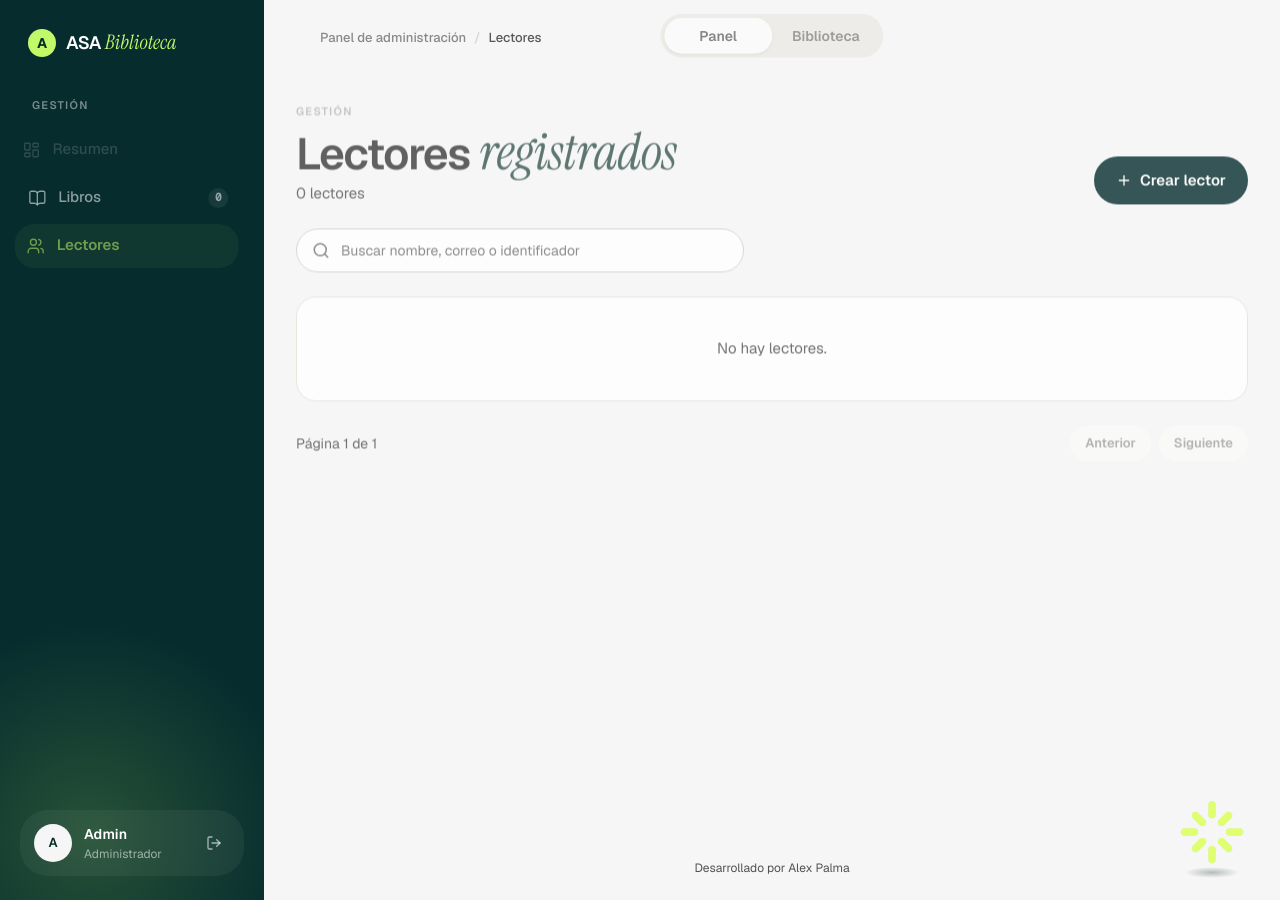
Test case: formularios de admin: errores generales › lector: un 403 se muestra como alerta arriba del formulario
Click the button "Crear lector" at point(1171, 180), box 1094,156 -> 1248,204
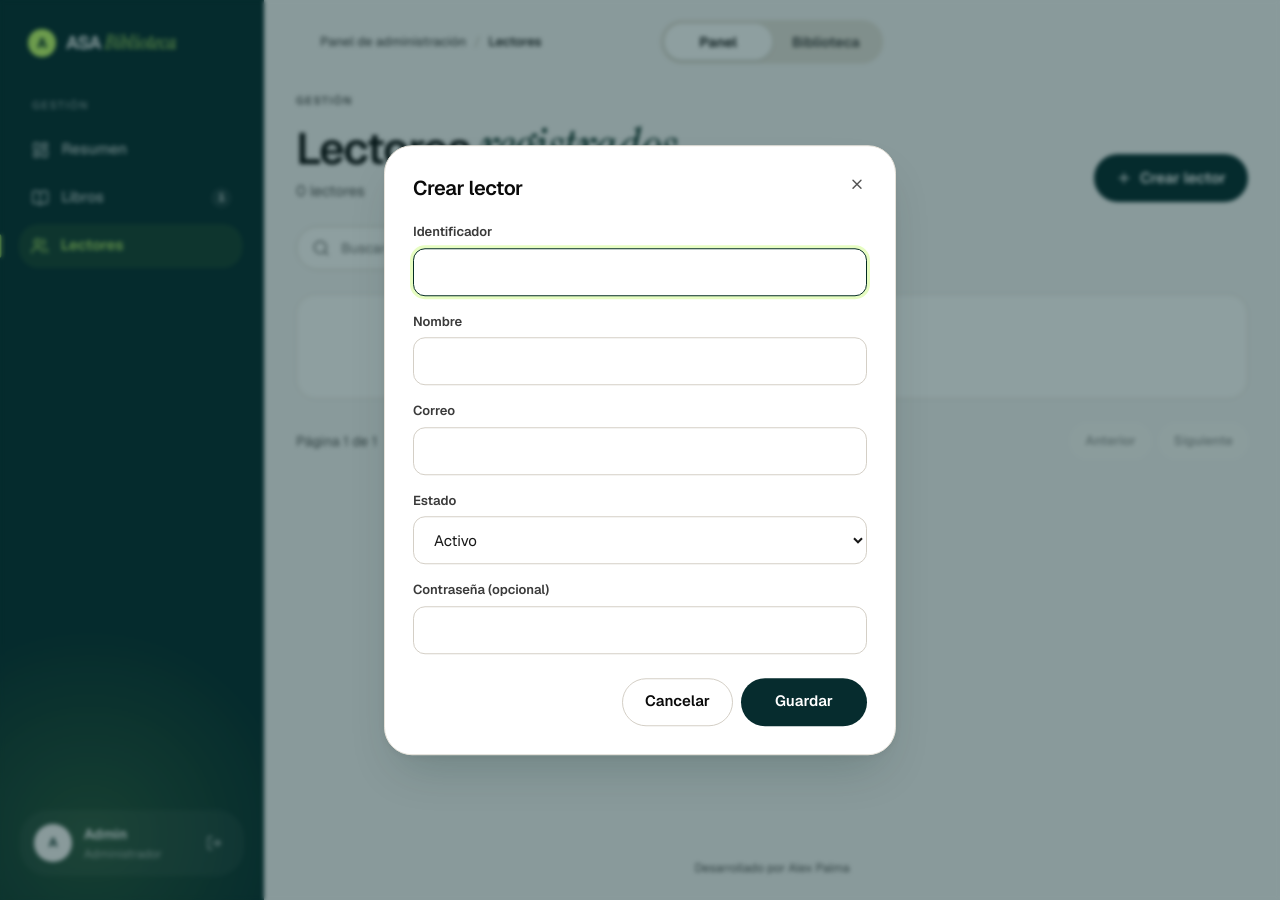
Type "L-900" into the field labelled "Identificador" at point(640, 272), box 413,248 -> 867,296
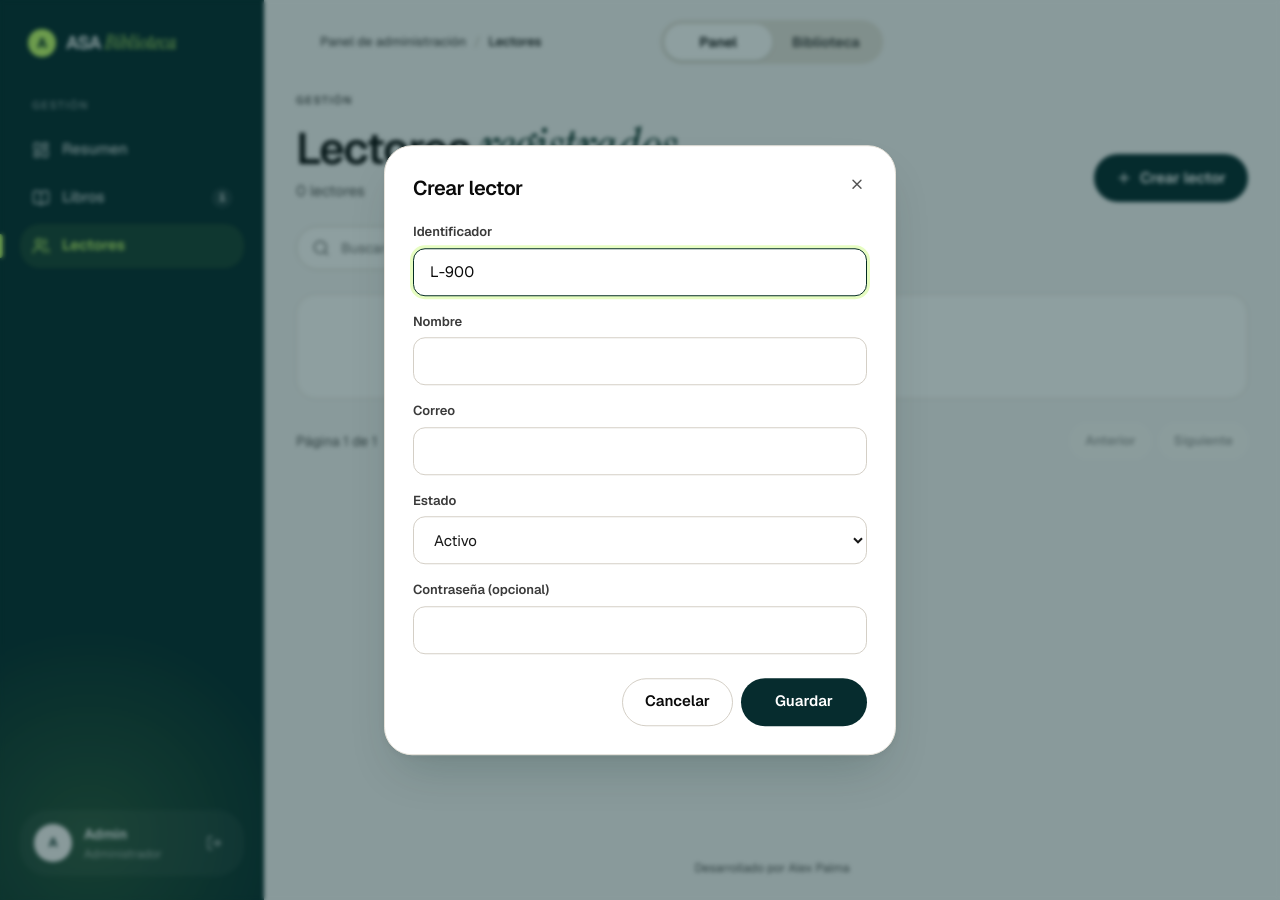
Type "Marta Ruiz" into the field labelled "Nombre" at point(640, 361), box 413,337 -> 867,385
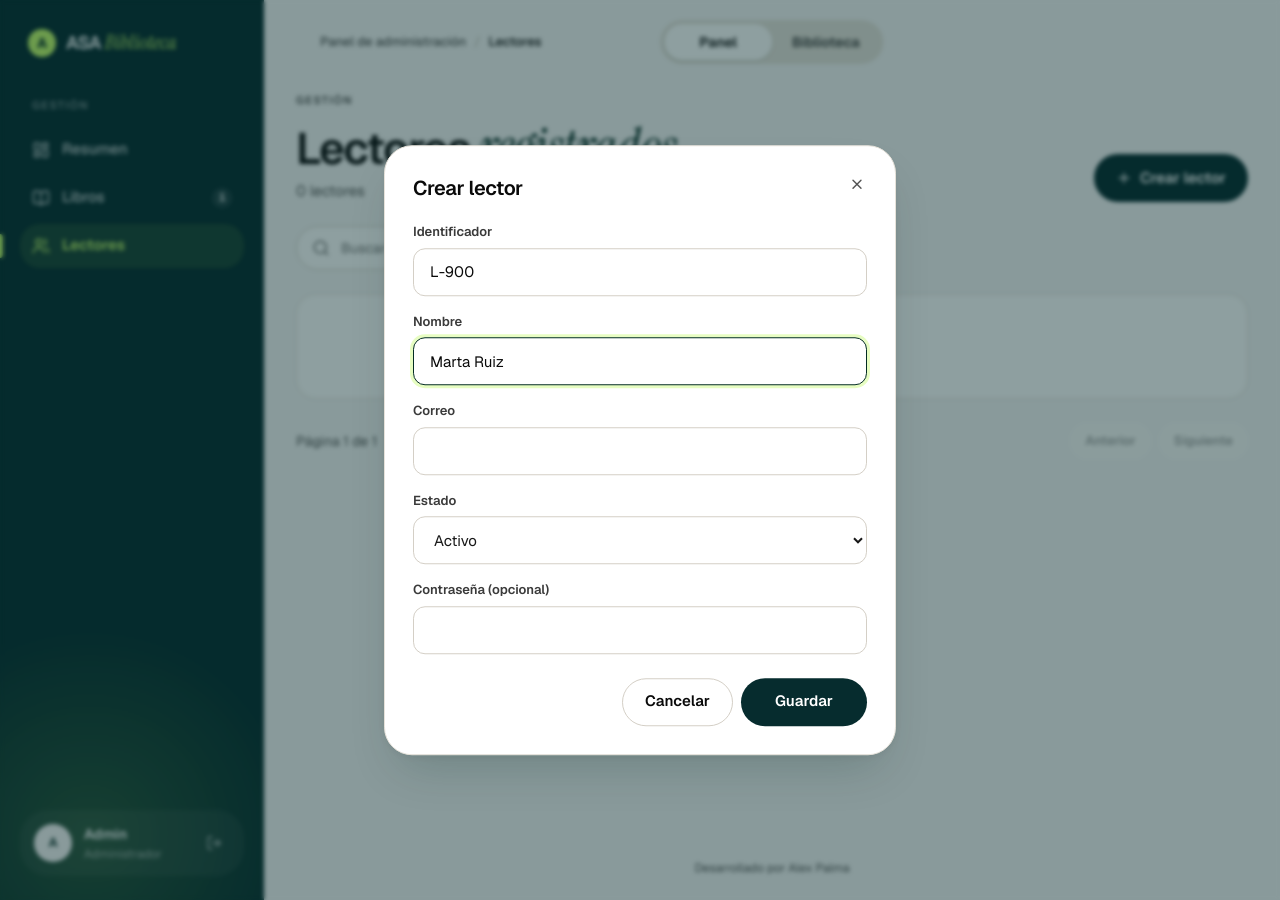
Type "marta@demo.local" into the field labelled "Correo" at point(640, 451), box 413,427 -> 867,475
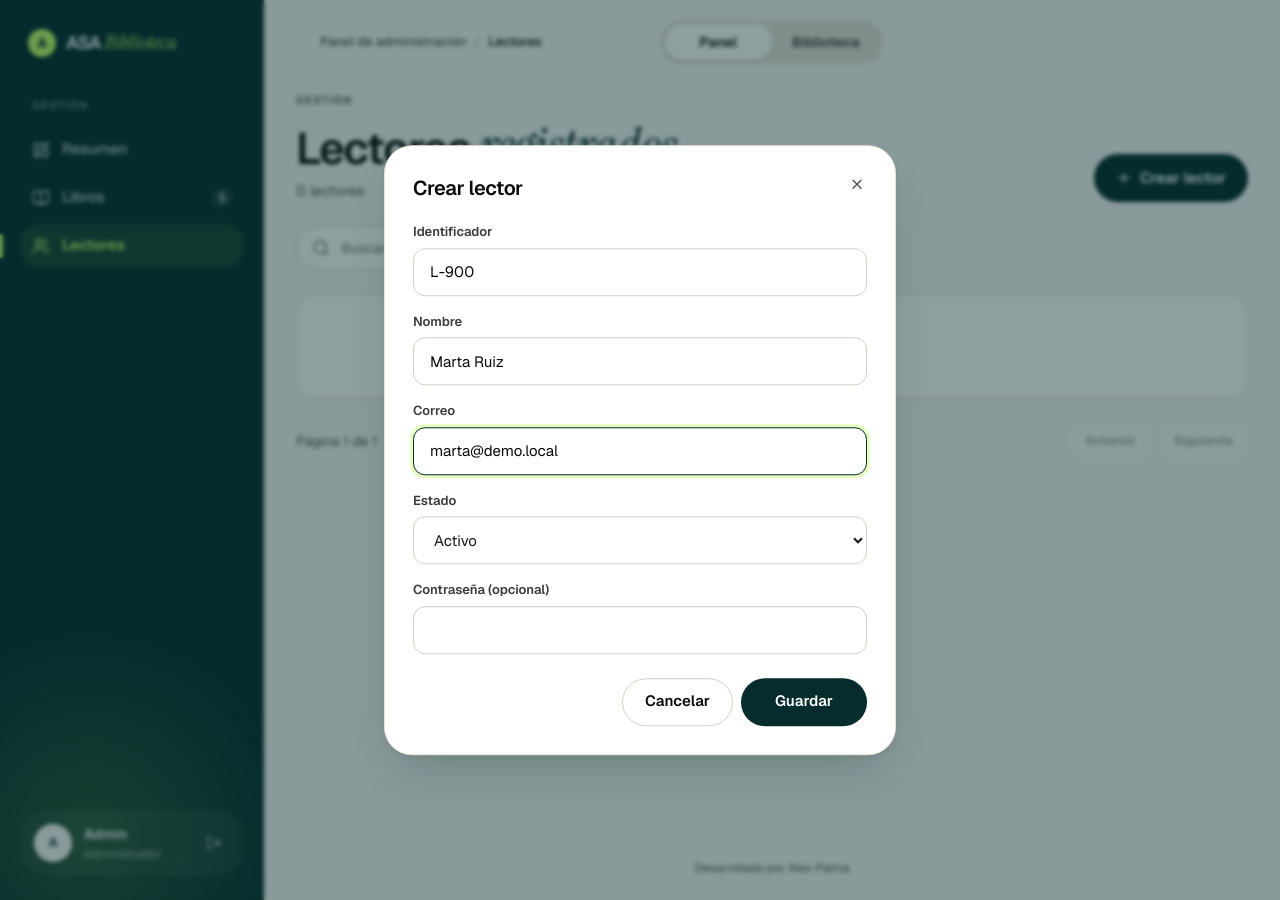
Click the button "Guardar" at point(804, 702), box 741,678 -> 867,726
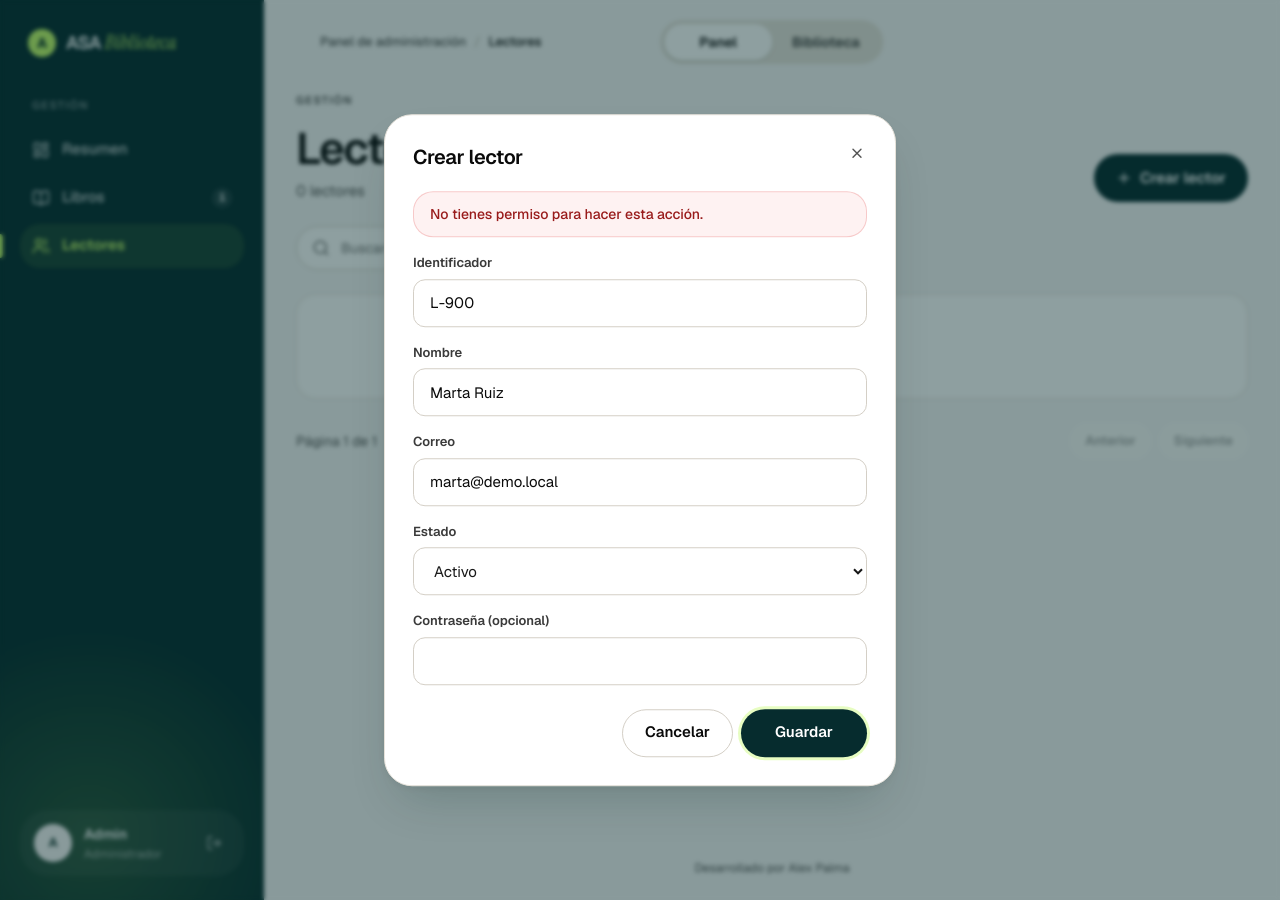
Expected: the message reads "No tienes permiso para hacer esta acción.", 430,205 -> 703,223
